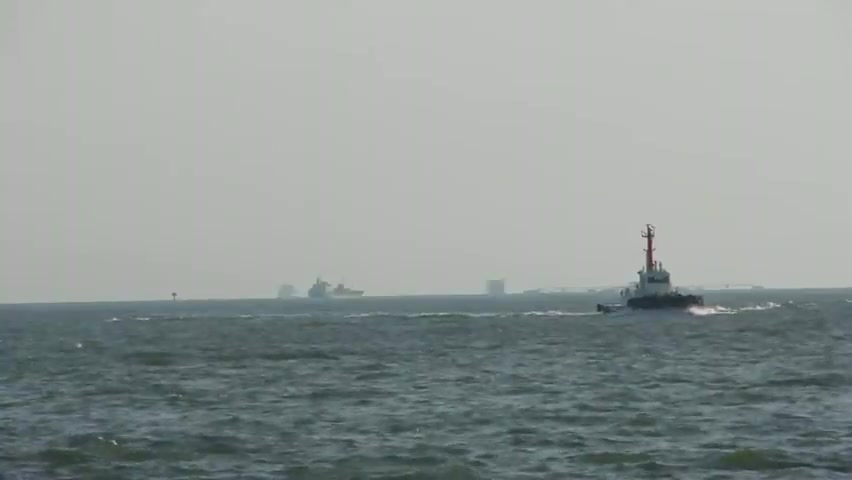boat: (593, 225, 706, 314)
